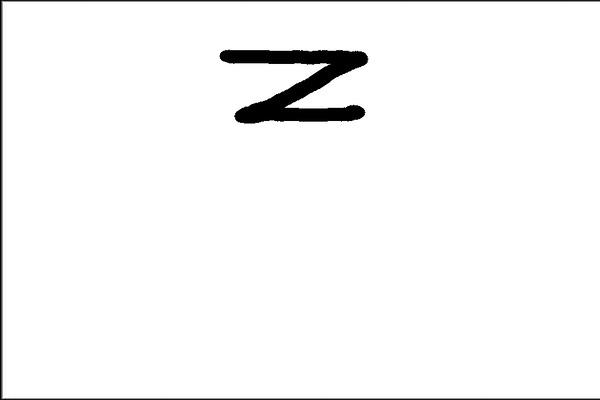Z: (214, 38, 374, 128)
